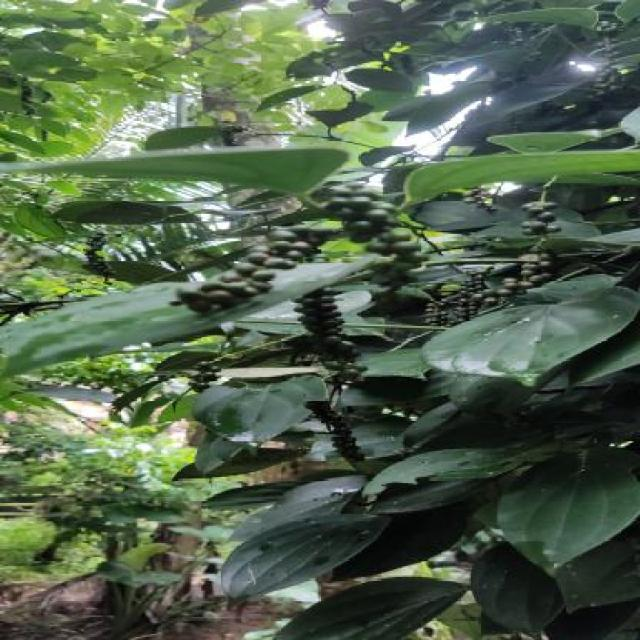UNRIPE: (172, 225, 331, 314), (323, 186, 422, 305), (300, 400, 372, 462), (451, 268, 523, 317), (522, 203, 562, 283), (498, 25, 540, 85), (591, 23, 622, 97), (78, 234, 117, 285), (186, 363, 217, 392), (422, 297, 446, 329)
